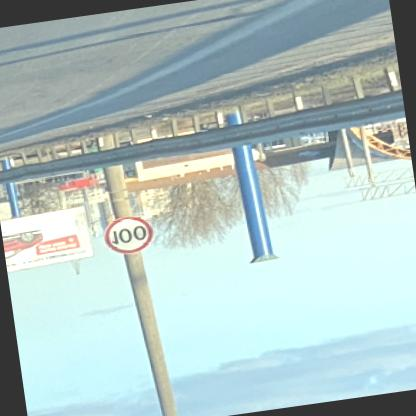speedlimit: (100, 214, 152, 257)
